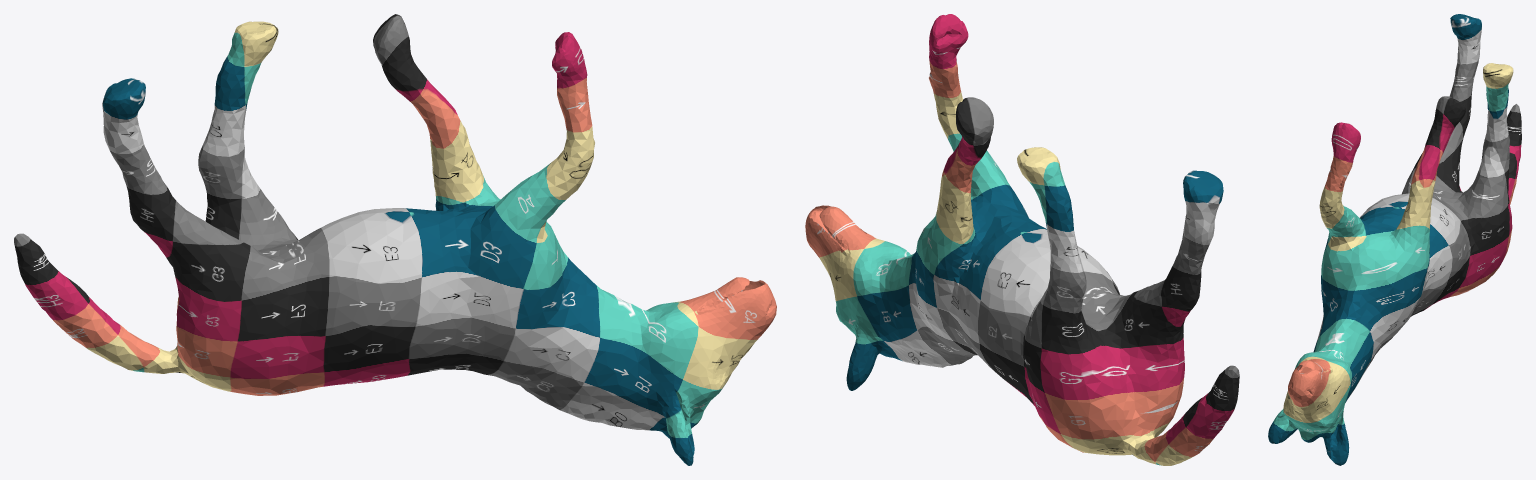
File: horse_04-horse_01.obj
The picture shows the model from 3 angles, left to right: view 1: azimuth 30°, elevation 25°; view 2: azimuth 150°, elevation 25°; view 3: azimuth 270°, elevation 25°; orthographic projection. The views are drawn at different scales.
Visible parts, largest first — view 1: horse_04-horse_01_export; view 2: horse_04-horse_01_export; view 3: horse_04-horse_01_export.
Boxes of the visible parts, x1,y1,x2,y2 form: horse_04-horse_01_export: (14,14,776,465); horse_04-horse_01_export: (805,14,1239,465); horse_04-horse_01_export: (1268,14,1521,465).
Size of the model in its own units: 1.09 by 0.7289 by 0.5466.
